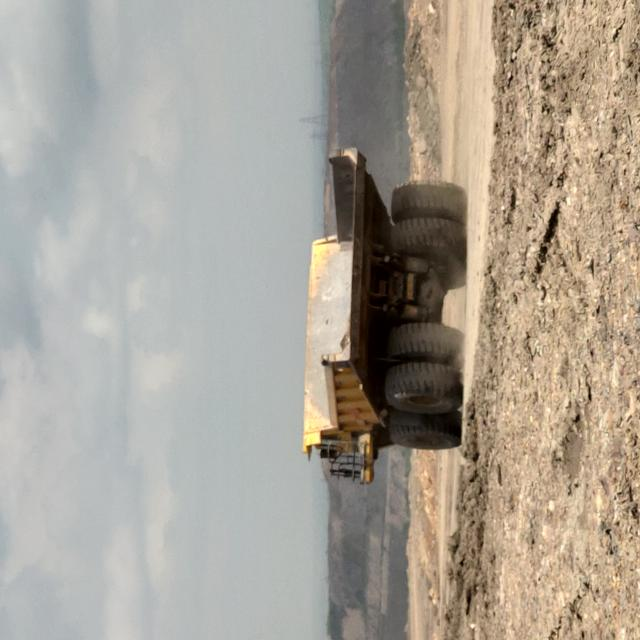dump_truck: (117, 405, 370, 624)
